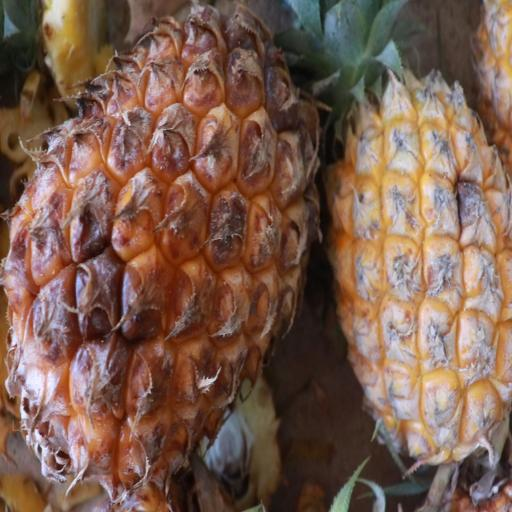Pineapple - v8 v1: (0, 12, 325, 501), (322, 0, 512, 478)
